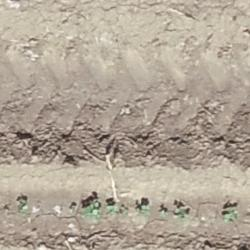cotton: (226, 209, 237, 218), (177, 210, 187, 217), (85, 208, 95, 215), (92, 202, 99, 210), (142, 206, 151, 212), (22, 204, 28, 212), (107, 206, 114, 211)
